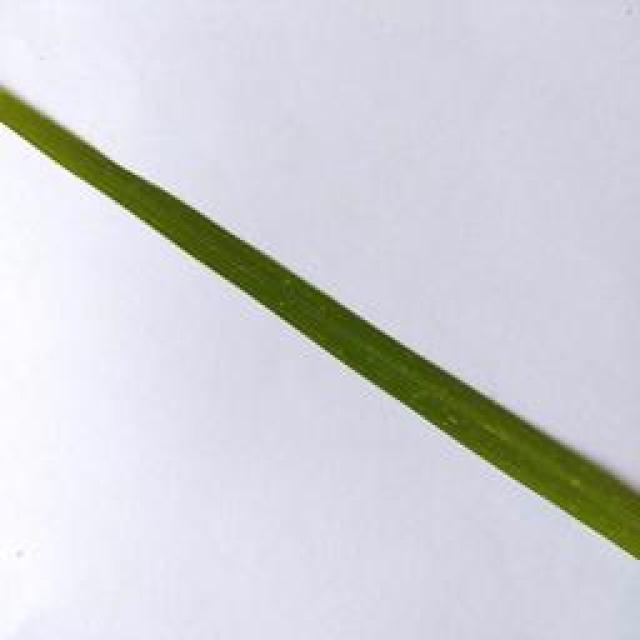Healthy-Plant: (0, 93, 640, 560)
